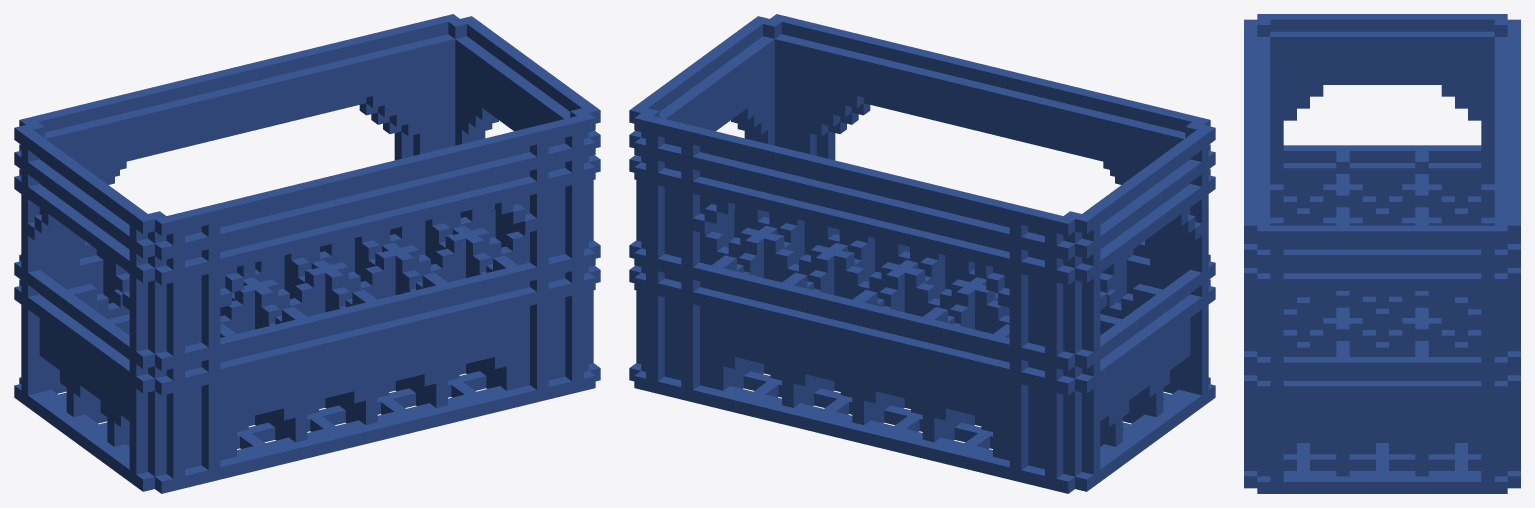
Rendered from BottleCrate-2.obj.
The picture shows the model from 3 angles, left to right: view 1: azimuth 30°, elevation 25°; view 2: azimuth 150°, elevation 25°; view 3: azimuth 270°, elevation 25°; orthographic projection. The views are drawn at different scales.
Bounding box in the file's own units: 3.9 × 2.2 × 2.1.
1 material, 1 textured.
